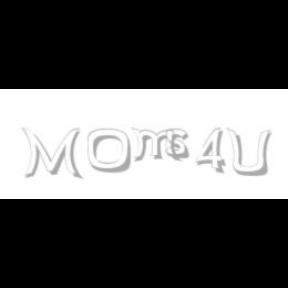4: (194, 128, 225, 174)
M: (22, 128, 80, 180)
O: (88, 128, 132, 174)
U: (226, 128, 270, 178)
m: (130, 128, 182, 162)
s: (165, 128, 193, 160)
